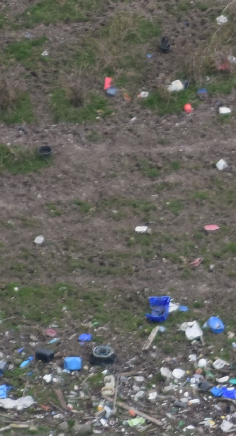scattered_barrel: (28, 137, 235, 274), (38, 8, 235, 130)
together_barrel: (1, 283, 236, 436)
